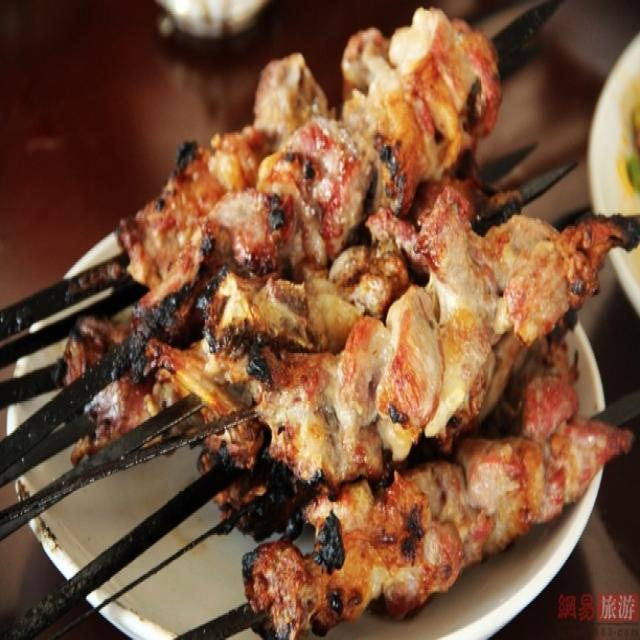烧串烤肉: (35, 28, 608, 610)
